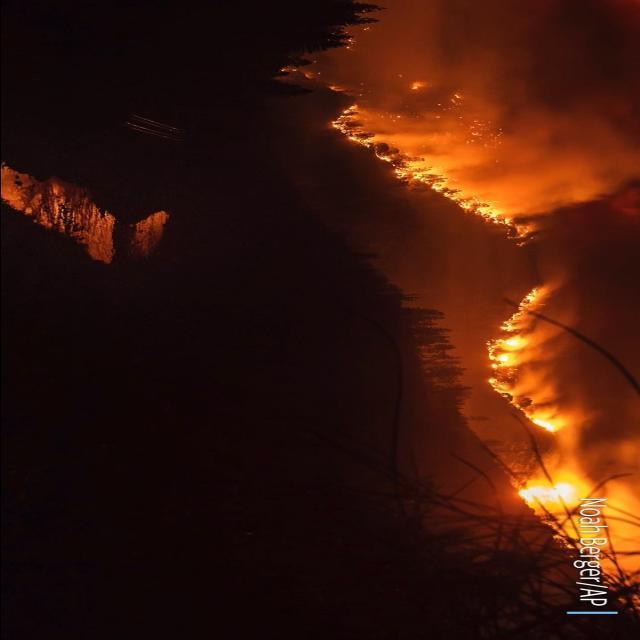Fire: (327, 77, 541, 233), (488, 272, 596, 549)
